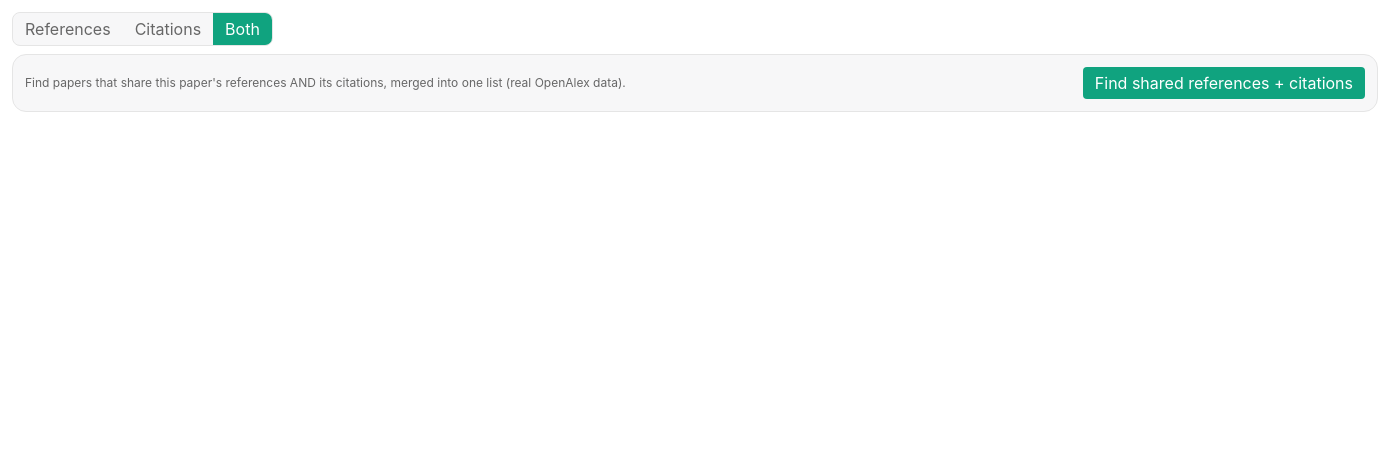
SimilarPapersPanel relation chips › tags overlap candidates as Shared refs or Shared cites, and shows shared-refs for similar rows
This screenshot has width=1378, height=450.
Click the button "Find shared references + citations": [1224, 83] box [1083,67,1365,99]
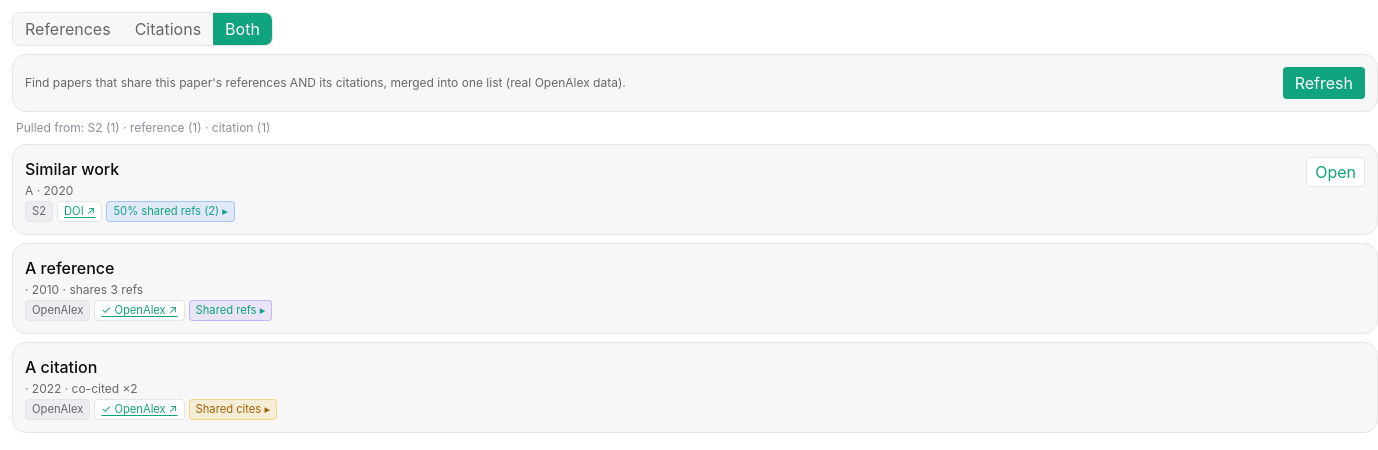
Expected: the text "Similar work" is shown, [25,159,119,179]
Expected: the button "Shared refs ▸" is shown, [189,300,272,321]
Expected: the button "Shared cites ▸" is shown, [189,399,277,420]
